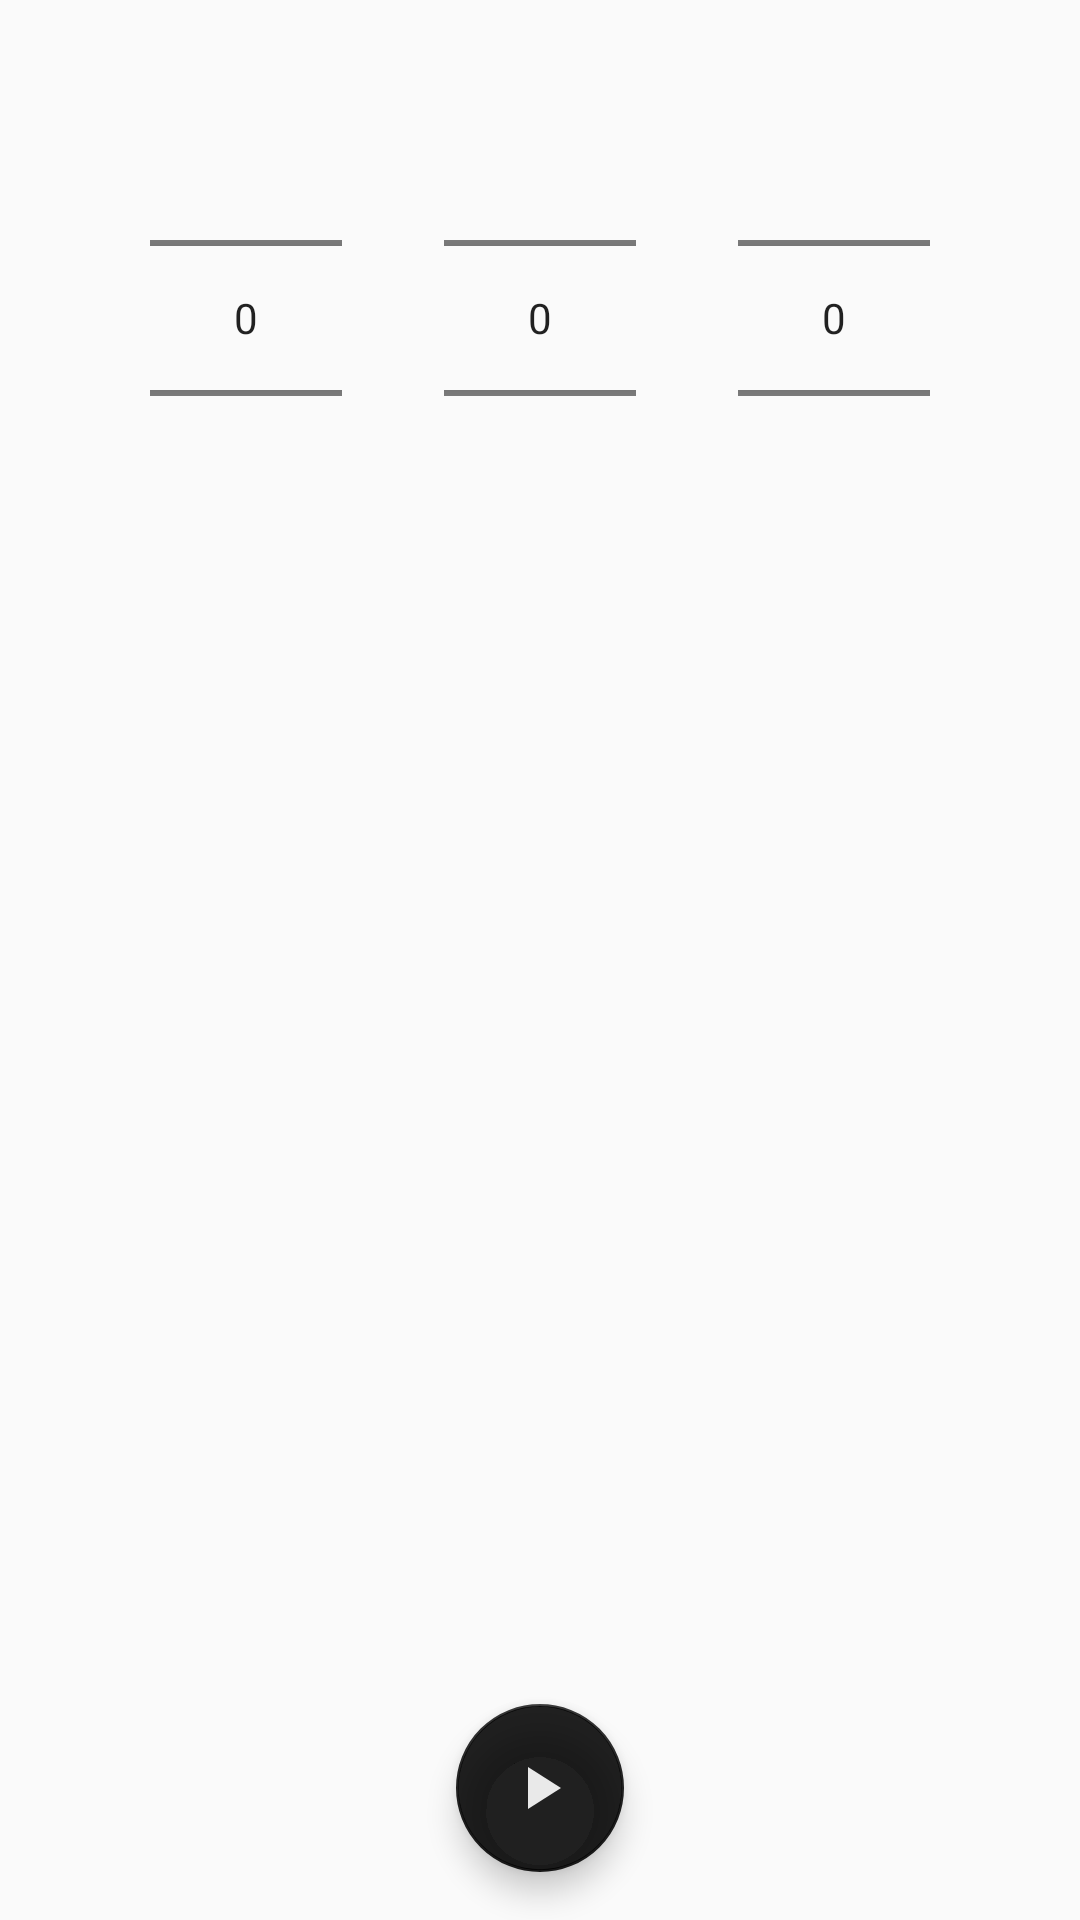

Icon bounding boxes for this 1080px×1920px phone screenshot, format rect(x1, y1, x2, y2):
play: rect(456, 1704, 624, 1872)
